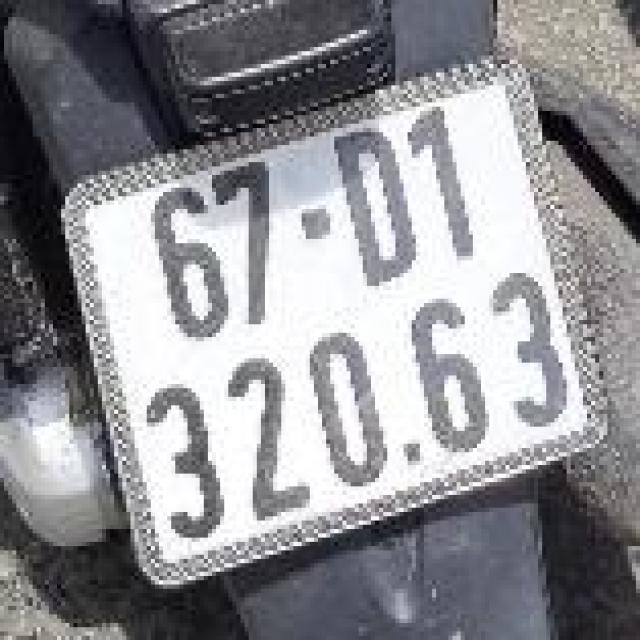0: (295, 315, 400, 499)
1: (401, 98, 487, 272)
2: (213, 346, 317, 527)
3: (125, 366, 240, 556), (479, 257, 579, 439)
6: (136, 174, 243, 355), (395, 283, 497, 461)
7: (206, 152, 312, 329)
D: (322, 112, 435, 302)
